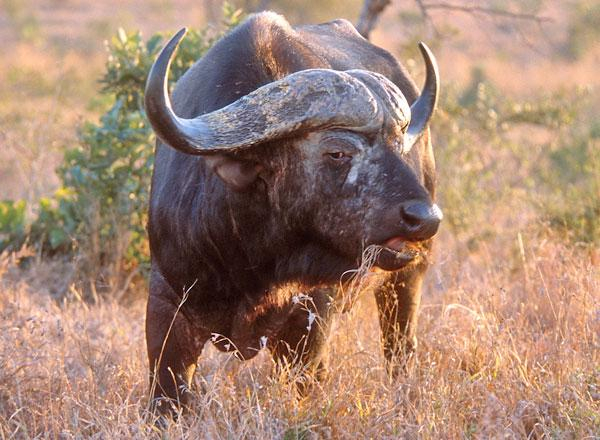Buffalo: (136, 11, 567, 440)
